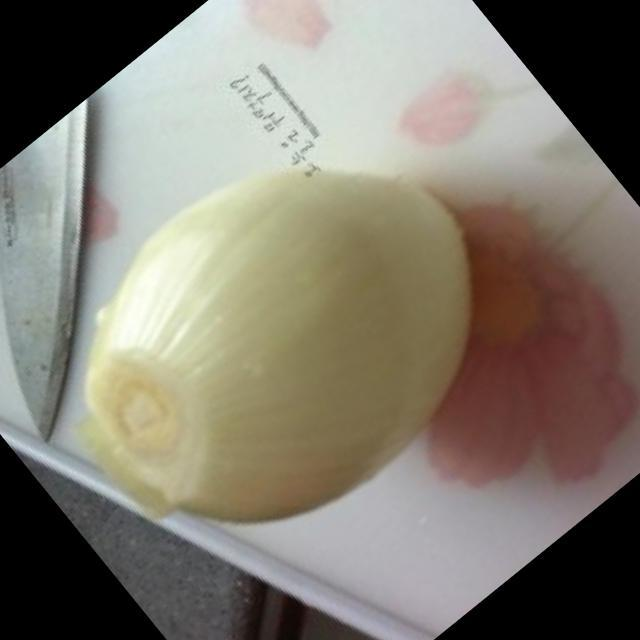Onion: (83, 172, 477, 525)
